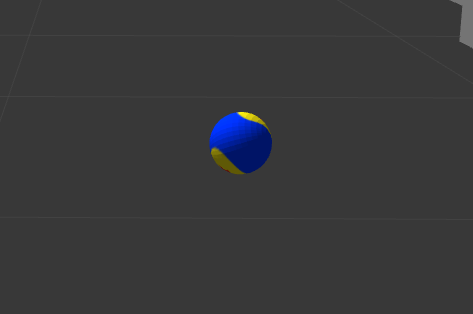toy story ball: (209, 111, 273, 175)
